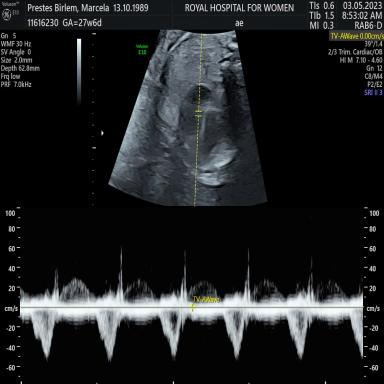Ultrasound-Waves: (25, 216, 361, 384)
